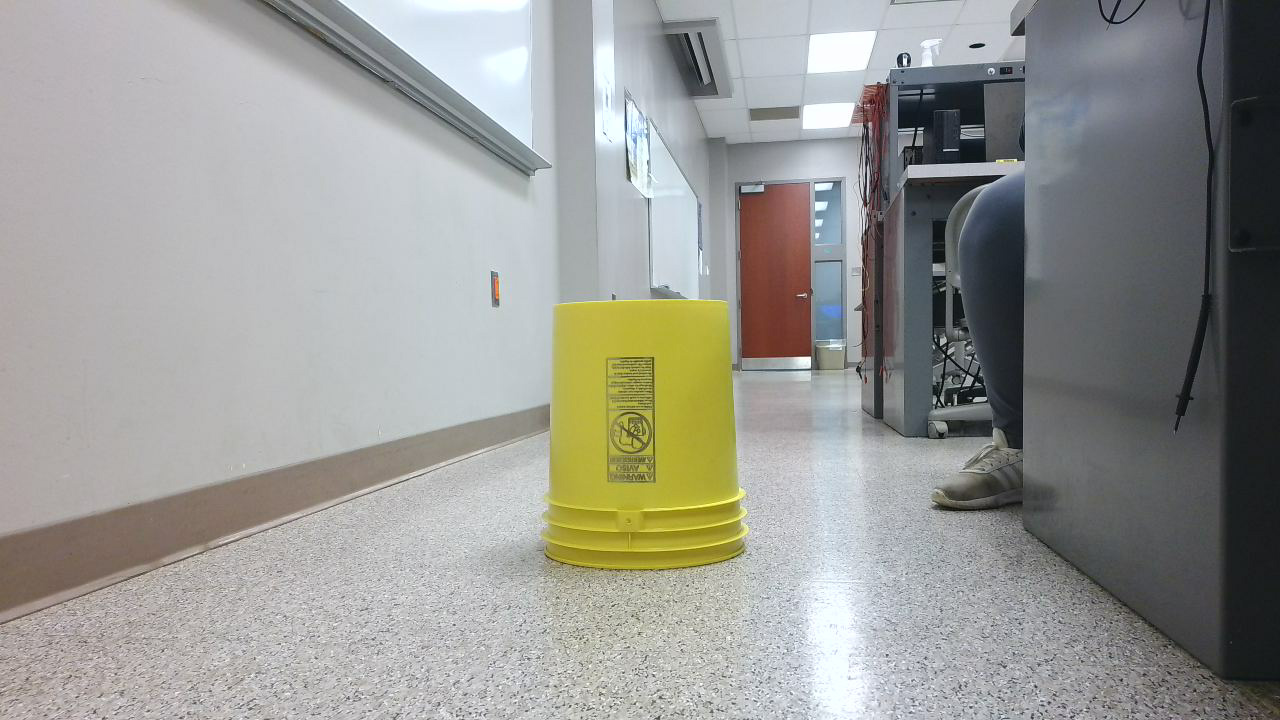yellow_bucket: (540, 301, 759, 579)
